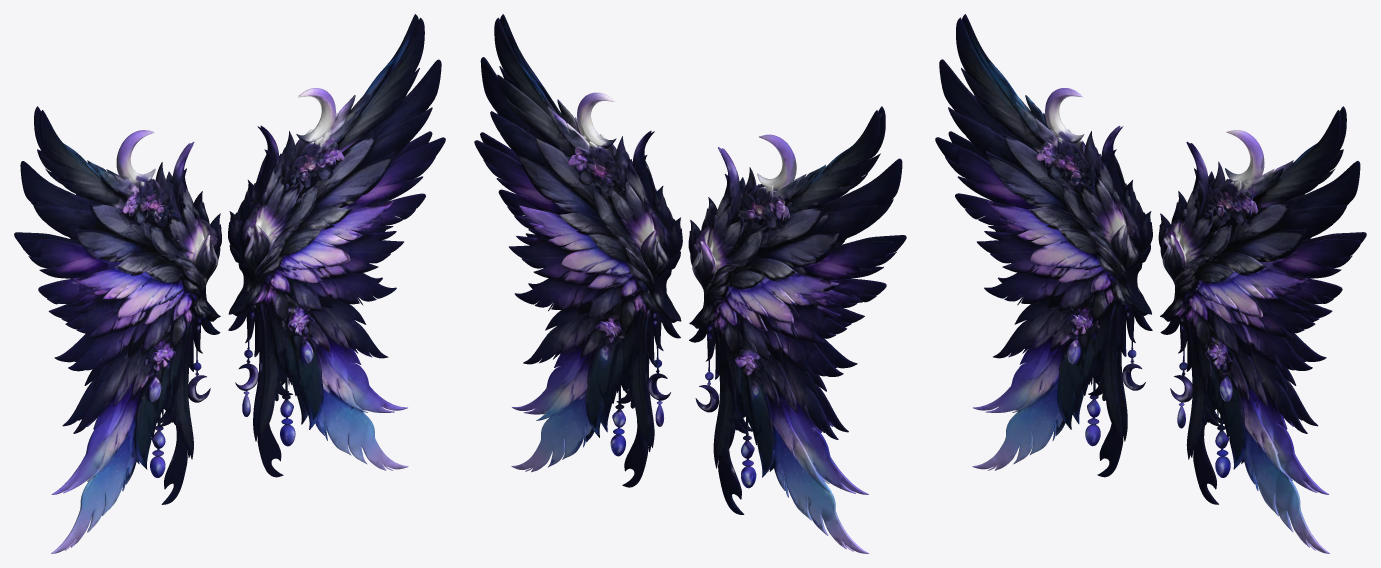
File: MoonlightAmaya.glb
The picture shows the model from 3 angles, left to right: view 1: azimuth 30°, elevation 25°; view 2: azimuth 150°, elevation 25°; view 3: azimuth 330°, elevation 25°; orthographic projection.
Visible parts, largest first — view 1: node_0; view 2: node_0; view 3: node_0.
Boxes of the visible parts, bbox=[...] form: node_0: bbox=[14, 14, 445, 553]; node_0: bbox=[474, 14, 906, 553]; node_0: bbox=[935, 14, 1366, 553].
Bounding box in the file's own units: 0.9916 × 1 × 0.0816.
Materials: 1 (1 with a texture image).
